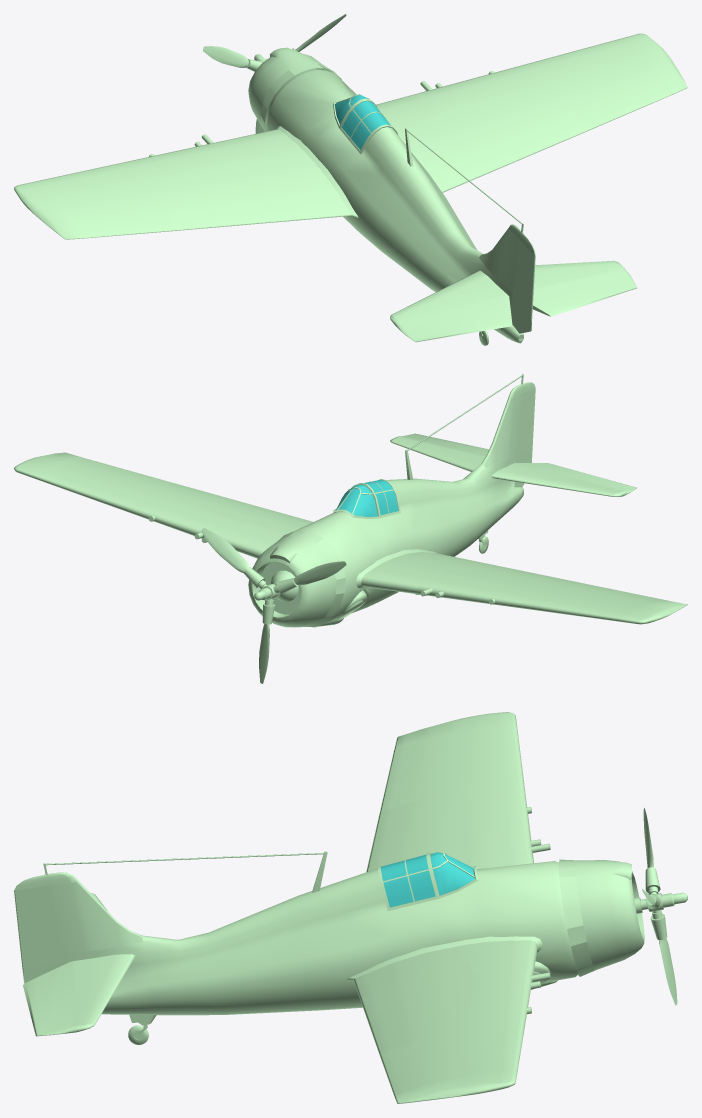
File: F4F Wildcat_flight.fbx
3 renders of one model, top to bottom at view 1: azimuth 30°, elevation 25°; view 2: azimuth 150°, elevation 25°; view 3: azimuth 270°, elevation 25°, orthographic. The views are drawn at different scales.
Visible parts, largest first — view 1: base.136, base.143, base.144, base.140, base.141, base.142, base.137, base.145; view 2: base.136, base.145, base.137, base.142, base.143, base.144, base.140; view 3: base.136, base.142, base.137, base.144, base.145, base.141, base.140.
Boxes of the visible parts, x1,y1,x2,y2 form: base.136: (14, 33, 687, 345); base.143: (390, 295, 512, 342); base.144: (532, 261, 636, 316); base.140: (572, 76, 671, 129); base.141: (72, 207, 177, 238); base.142: (508, 224, 535, 333); base.137: (334, 95, 390, 149); base.145: (203, 14, 346, 133); base.136: (14, 374, 687, 627); base.145: (201, 528, 346, 683); base.137: (335, 480, 398, 516); base.142: (508, 382, 535, 487); base.143: (514, 463, 636, 496); base.144: (390, 433, 488, 456); base.140: (72, 457, 176, 484); base.136: (43, 712, 644, 1103); base.142: (14, 872, 77, 983); base.137: (381, 852, 474, 907); base.144: (23, 961, 94, 1036); base.145: (634, 808, 687, 1005); base.141: (380, 740, 428, 812); base.140: (380, 1040, 428, 1095).
Bounding box in the file's own units: 1155 × 876 × 281.
